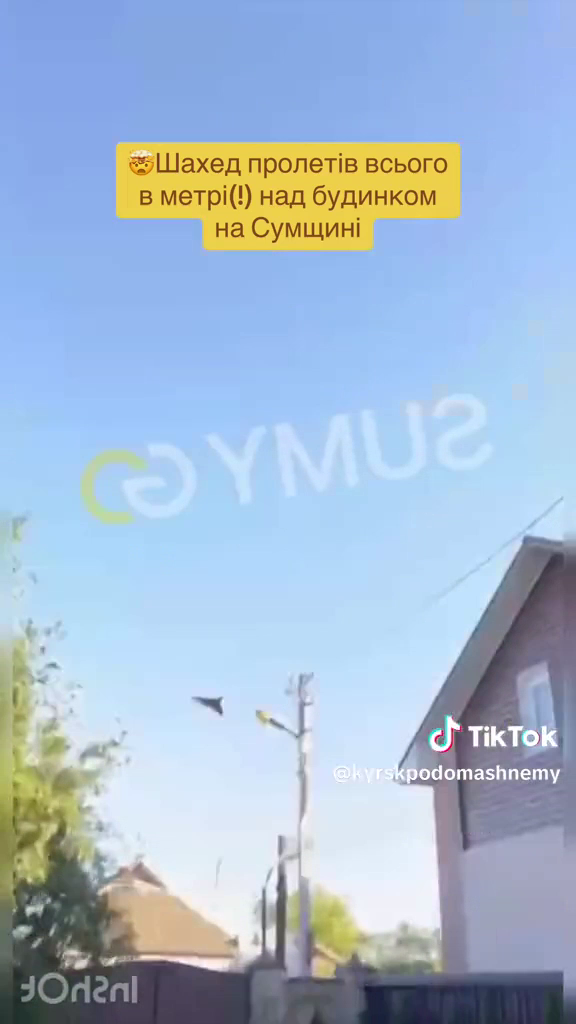shahed: (189, 690, 227, 720)
